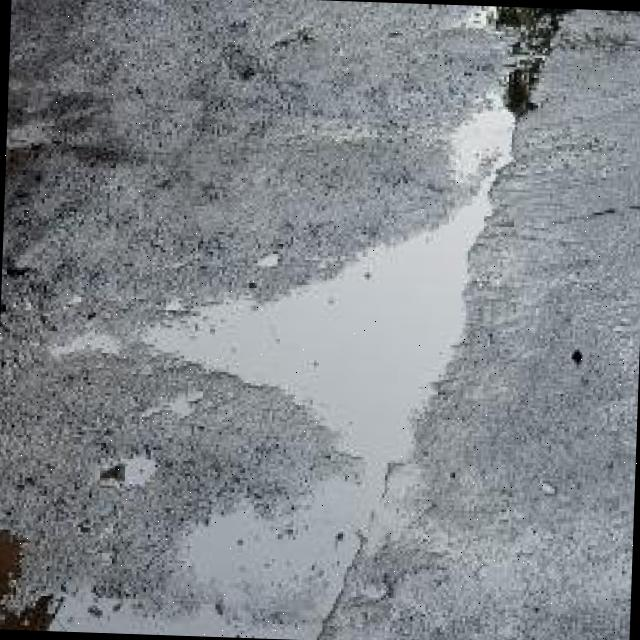stagnation: (12, 76, 542, 513)
